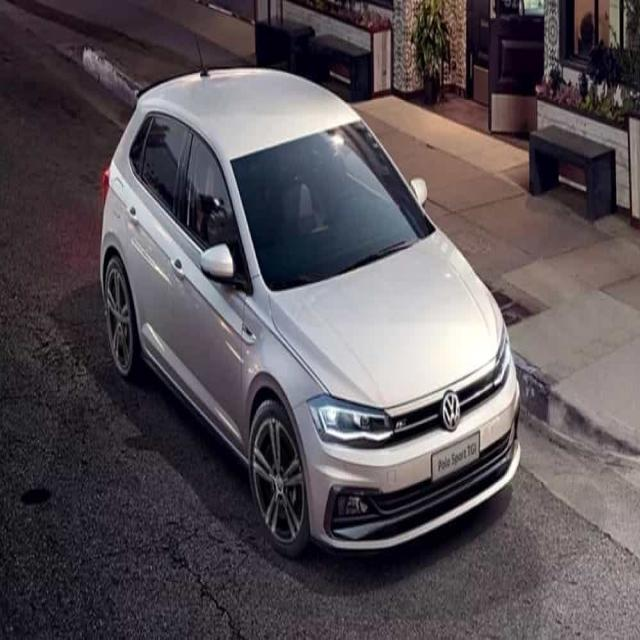yolov7-seg-car: (99, 32, 522, 560)
